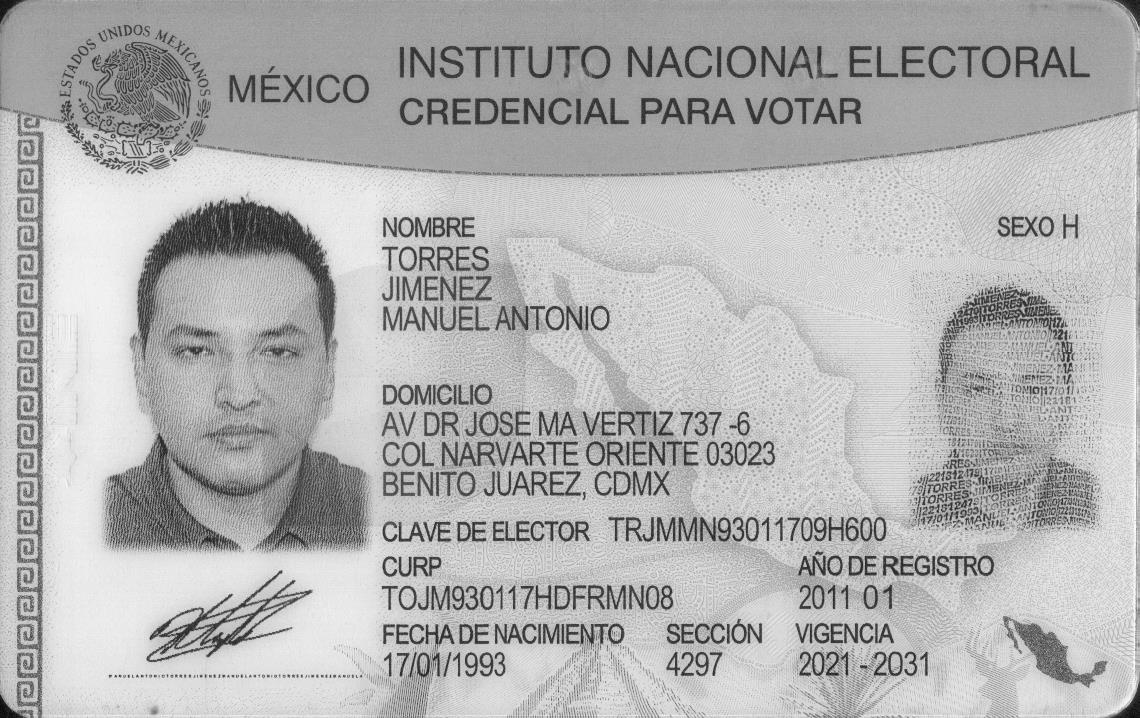ESCUDO: (59, 23, 211, 174)
MAPA: (1002, 616, 1110, 689)
PALABRA: (848, 45, 1091, 78)
